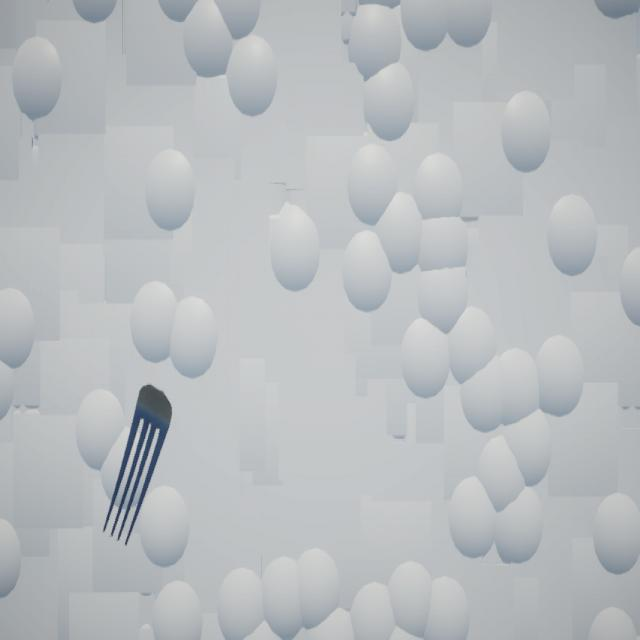top_folk: (104, 385, 174, 547)
